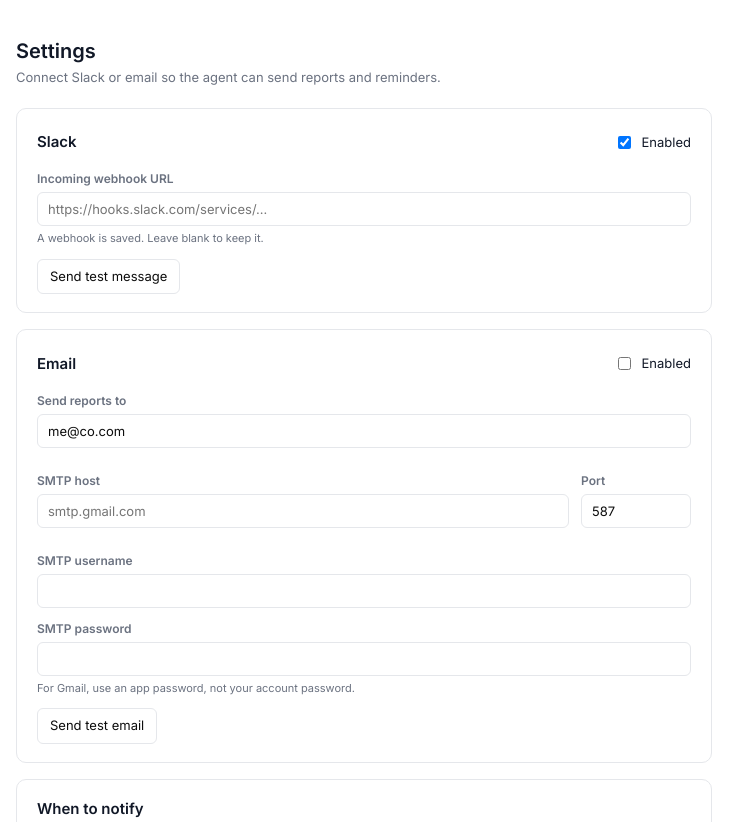
Test: Settings › reports the result of a test notification
Expected: the text "A webhook is saved. Leave blank to keep it." is shown, [37,231,264,245]
Click the button "Send test message" at x=109, y=276, box [37,258,180,294]
(page scrolled)
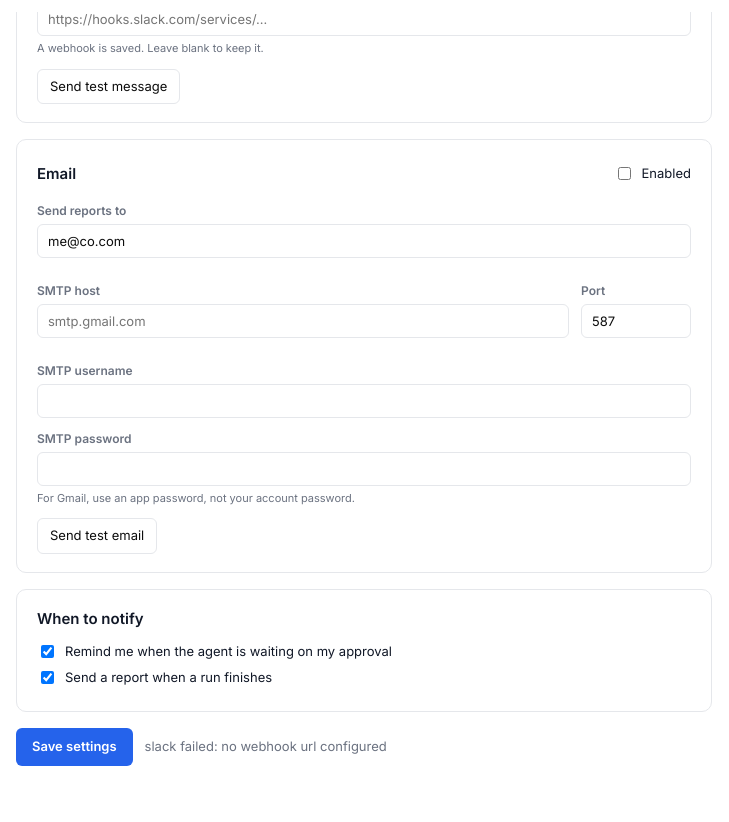
Result: the text "slack failed: no webhook url configured" is shown at [145,737,387,756]
